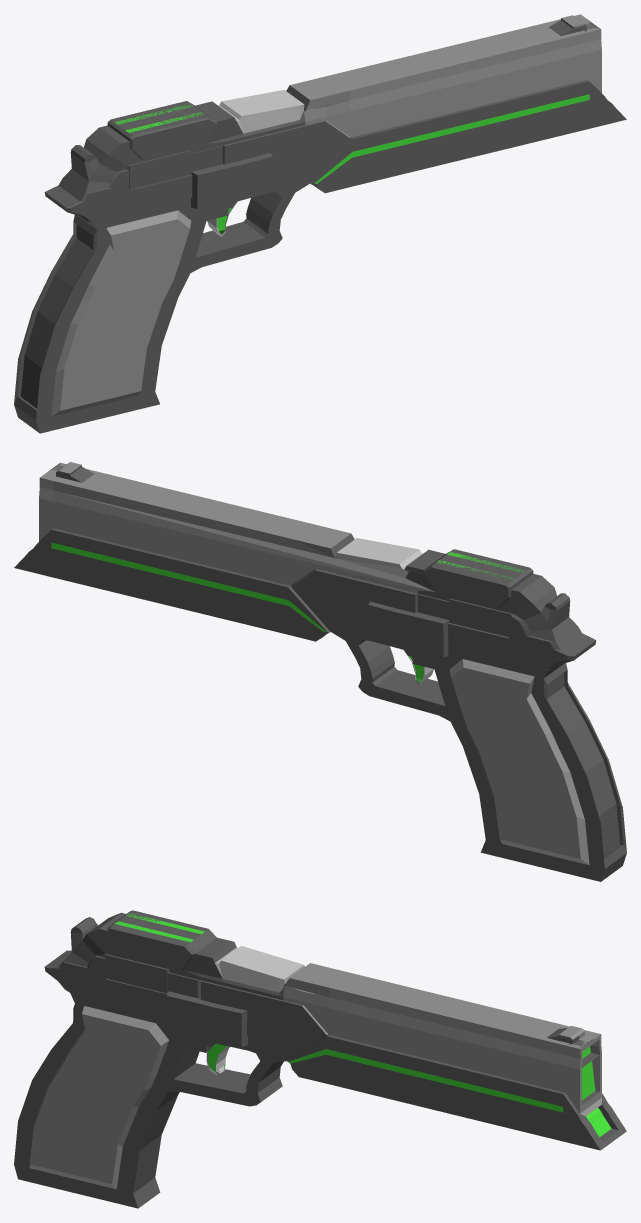
File: Cybergun_Green.fbx
3 views of the same model, one above another, from view 1: azimuth 30°, elevation 25°; view 2: azimuth 150°, elevation 25°; view 3: azimuth 330°, elevation 25° (orthographic).
Visible parts, largest first — view 1: Cube; view 2: Cube; view 3: Cube.
Boxes of the visible parts, box(x1,y1,x2,y2) form: Cube: box(14, 14, 626, 433); Cube: box(14, 462, 626, 881); Cube: box(14, 910, 626, 1208).
Size of the model in its own units: 610 by 273 by 55.53.
